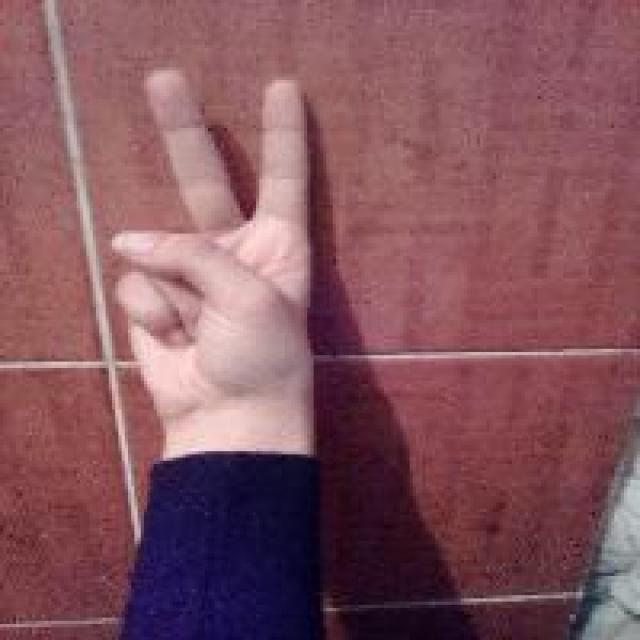V: (106, 62, 316, 430)
